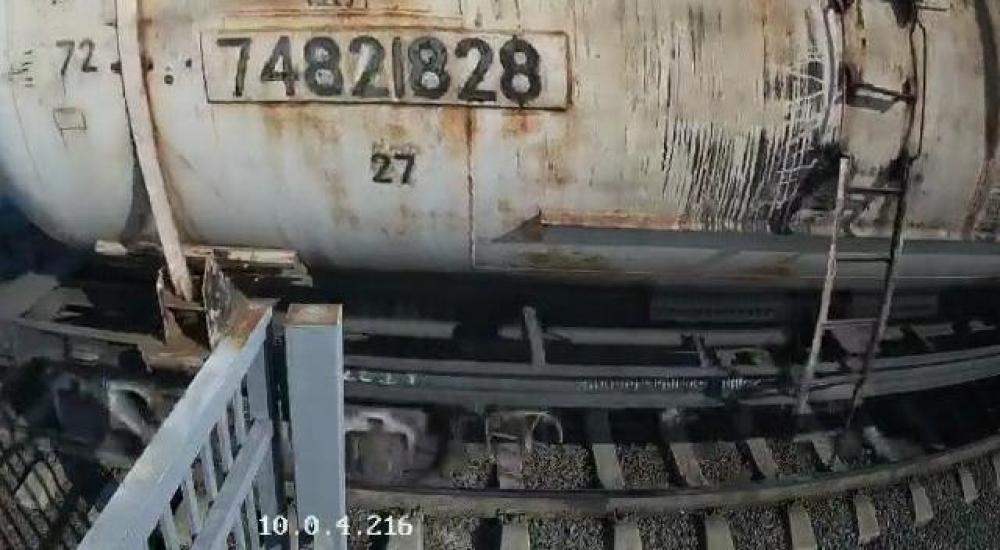Wagon-number: (213, 30, 547, 106)
